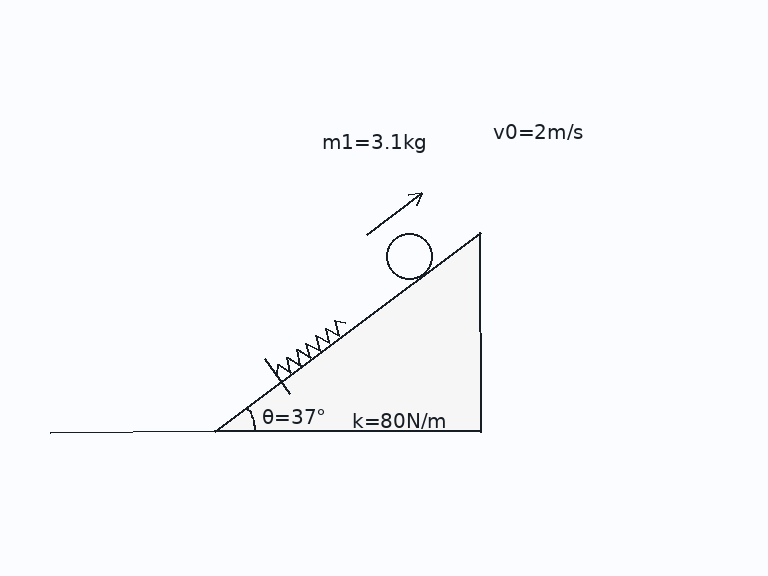ball: (384, 231, 434, 281)
ramp: (213, 229, 482, 433)
spring: (274, 318, 347, 376)
